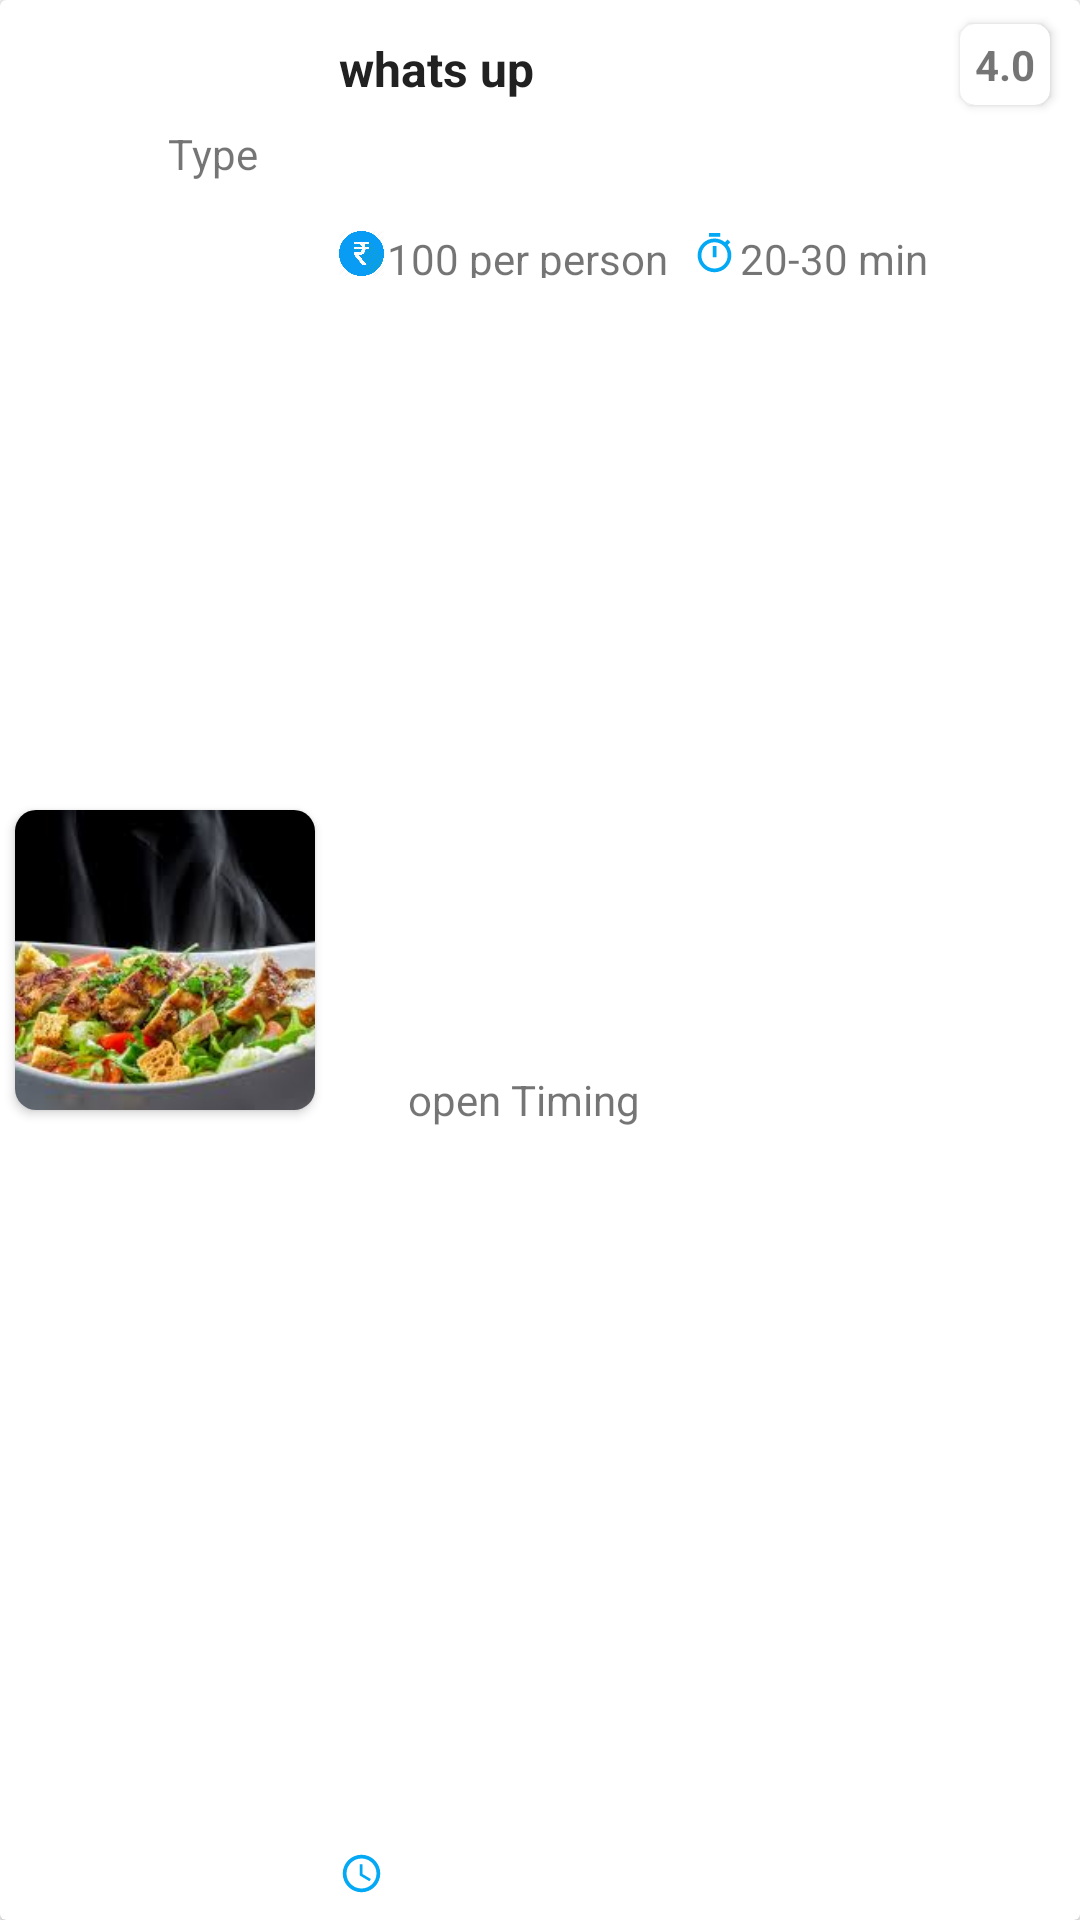

Screen size 1080w x 1920h. Icon name, then its box in pixels as (x1, y1, x2, y2):
clock: (342, 1854, 381, 1893)
hotfood: (15, 810, 315, 1110)
rupee: (339, 231, 384, 276)
time: (697, 233, 732, 273)
